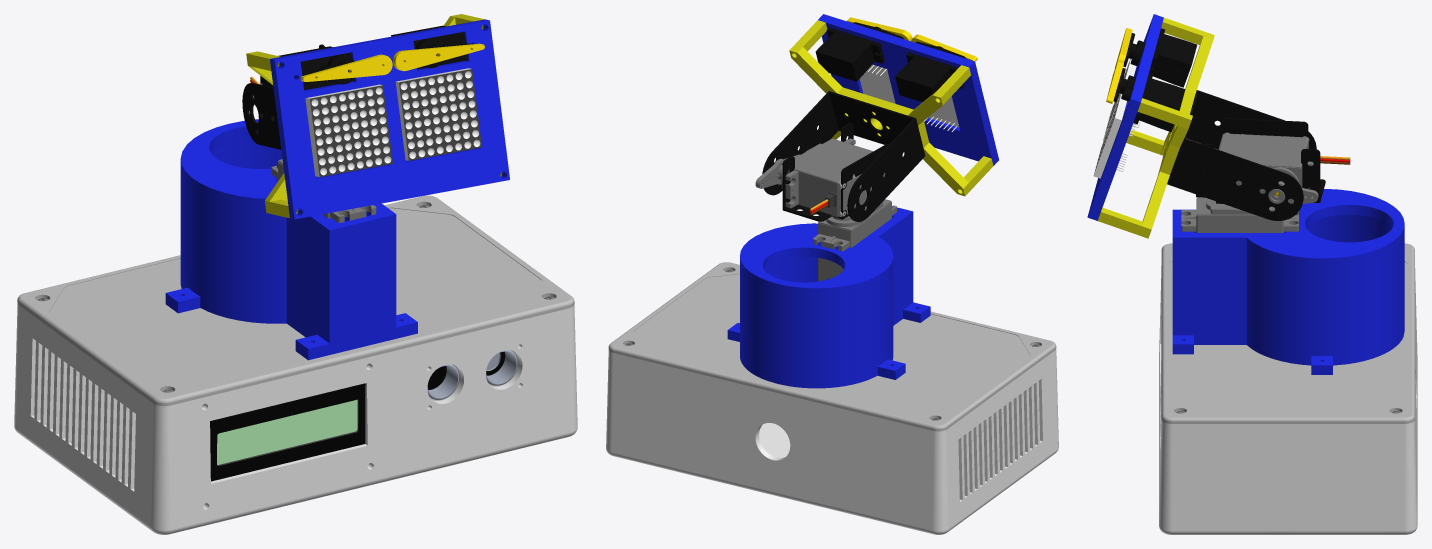
The picture shows the model from 3 angles, left to right: view 1: azimuth 30°, elevation 25°; view 2: azimuth 150°, elevation 25°; view 3: azimuth 270°, elevation 25°; orthographic projection. The views are drawn at different scales.
Visible parts, largest first — view 1: Body1 (×12), Body17, Body2, Body12; view 2: Body1 (×14), Body17; view 3: Body1 (×13), Body17.
Part boxes in pixels (x1,y1,x2,y2): Body1 (×12): [14, 14, 577, 534]; Body17: [270, 19, 509, 219]; Body2: [300, 54, 392, 81]; Body12: [486, 350, 517, 385]; Body1 (×14): [606, 20, 1058, 534]; Body17: [818, 14, 998, 165]; Body1 (×13): [1093, 17, 1417, 534]; Body17: [1087, 14, 1163, 220].
Bounding box in the file's own units: 7.73 × 7.9 × 6.03.
